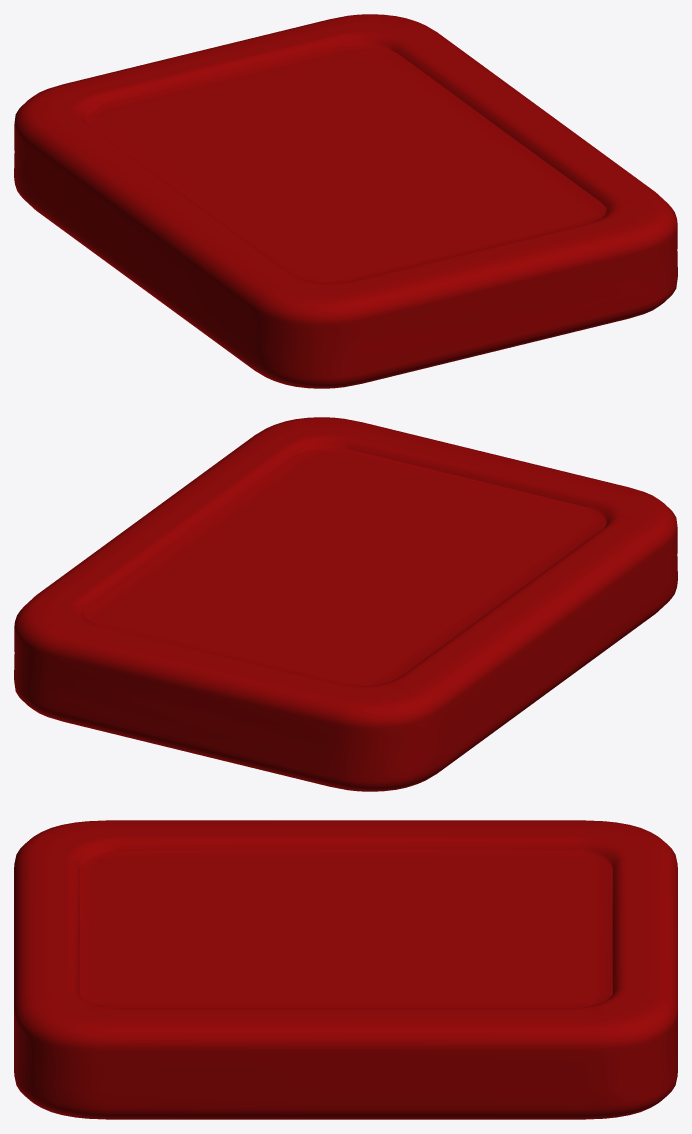
The model's file is Box (backup).fbx.
3 renders of one model, top to bottom at view 1: azimuth 30°, elevation 25°; view 2: azimuth 150°, elevation 25°; view 3: azimuth 270°, elevation 25°, orthographic. The views are drawn at different scales.
Parts seen in each view (by area): view 1: Box.001; view 2: Box.001; view 3: Box.001.
Boxes of the visible parts, left/top/right/bottom form: Box.001: left=14, top=14, right=677, bottom=388; Box.001: left=14, top=417, right=677, bottom=791; Box.001: left=14, top=820, right=677, bottom=1119.
Size of the model in its own units: 0.7917 by 0.1584 by 1.01.
